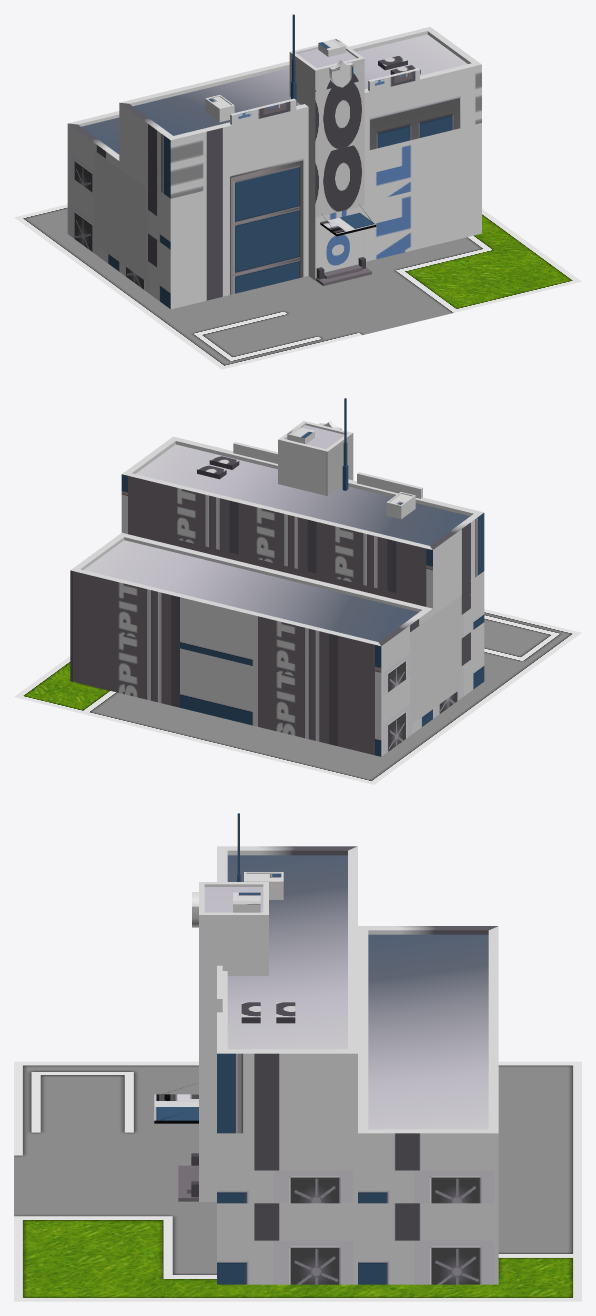
The model's file is Police_Lvl_2.fbx.
The picture shows the model from 3 angles, top to bottom: view 1: azimuth 30°, elevation 25°; view 2: azimuth 150°, elevation 25°; view 3: azimuth 270°, elevation 25°; orthographic projection. The views are drawn at different scales.
Visible parts, largest first — view 1: Police_Lvl_2, Police_BG, Graffiti_001; view 2: Police_Lvl_2, Police_BG, Graffiti_001; view 3: Police_Lvl_2, Police_BG.
Boxes of the visible parts, x1,y1,x2,y2 form: Police_Lvl_2: (67, 14, 481, 309); Police_BG: (14, 204, 581, 369); Graffiti_001: (94, 151, 145, 280); Police_Lvl_2: (70, 398, 484, 756); Police_BG: (14, 609, 581, 784); Graffiti_001: (410, 595, 461, 725); Police_Lvl_2: (154, 813, 498, 1284); Police_BG: (14, 1061, 581, 1301).
Size of the model in its own units: 2000 by 1363 by 2000.
